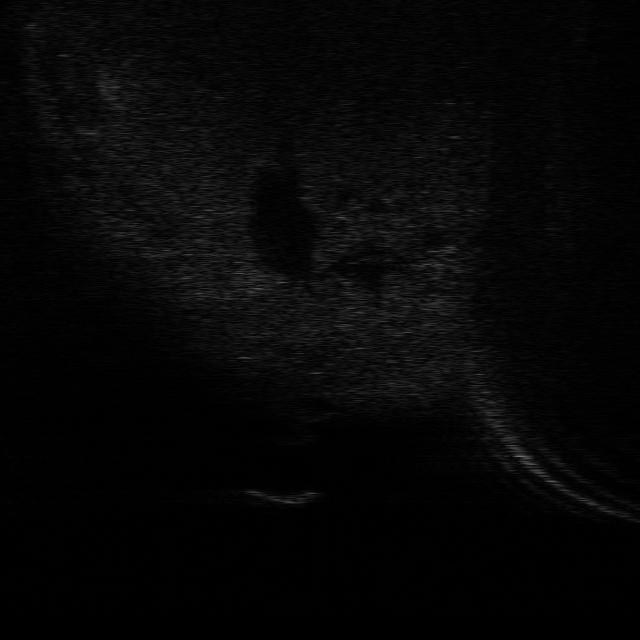cube: (239, 488, 325, 508)
